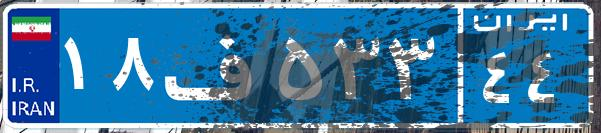1: (57, 26, 110, 107)
3: (385, 28, 445, 110), (330, 28, 385, 110)
4: (475, 38, 525, 113), (525, 38, 570, 115)
5: (273, 28, 330, 110)
8: (110, 28, 158, 105)
ف: (158, 15, 273, 115)
